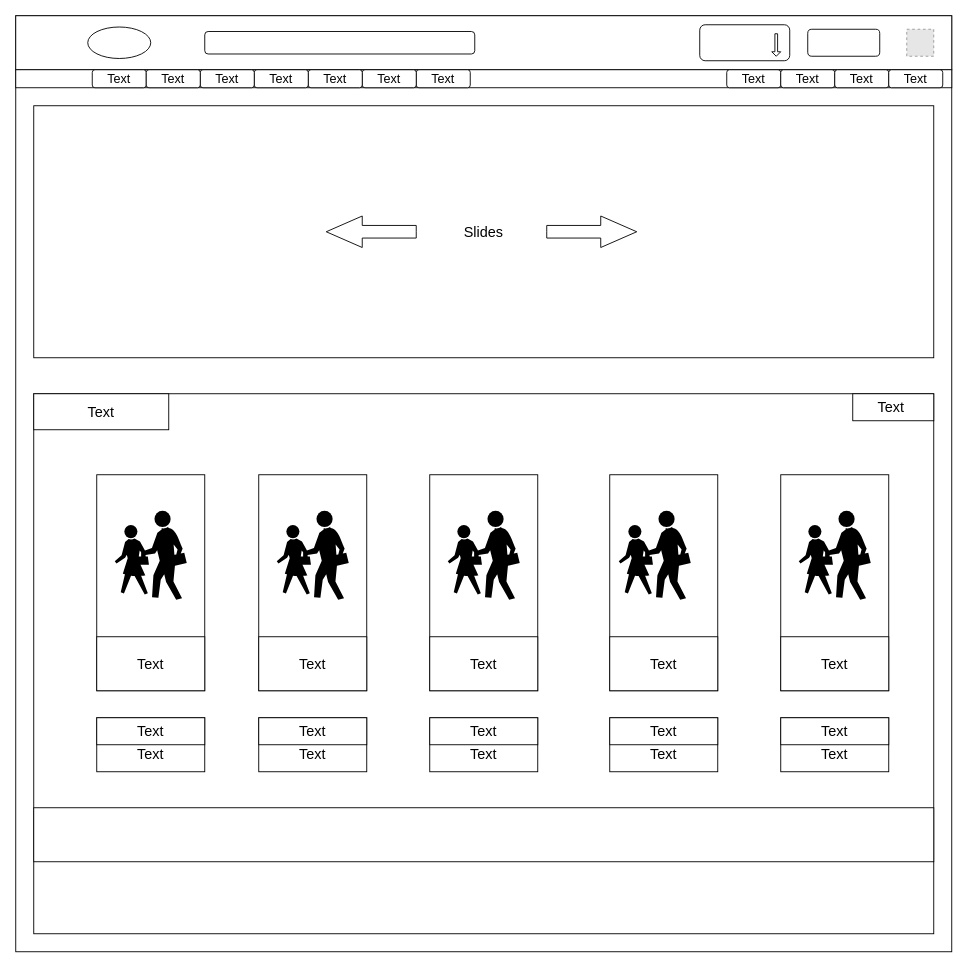
The diagram is 968 pixels wide and 968 high, and some of its shapes have lost their labels. Grey dashed boxes stand in for pictures. Here are the shapes that lost their labels. From the top down, the centre of each, then its label:
At pixel 119 42: "LOGO".
At pixel 339 42: "Search Bar".
At pixel 744 42: "Dropdown".
At pixel 843 42: "Sign in".
At pixel 483 834: "Advertisement / New release (feature)".
